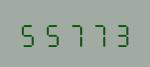five: (18, 20, 40, 47), (41, 20, 63, 47)
seven: (64, 20, 86, 47), (87, 20, 109, 47)
three: (110, 20, 132, 47)
